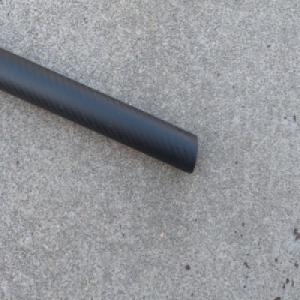LuggagePart: (0, 41, 199, 177)
